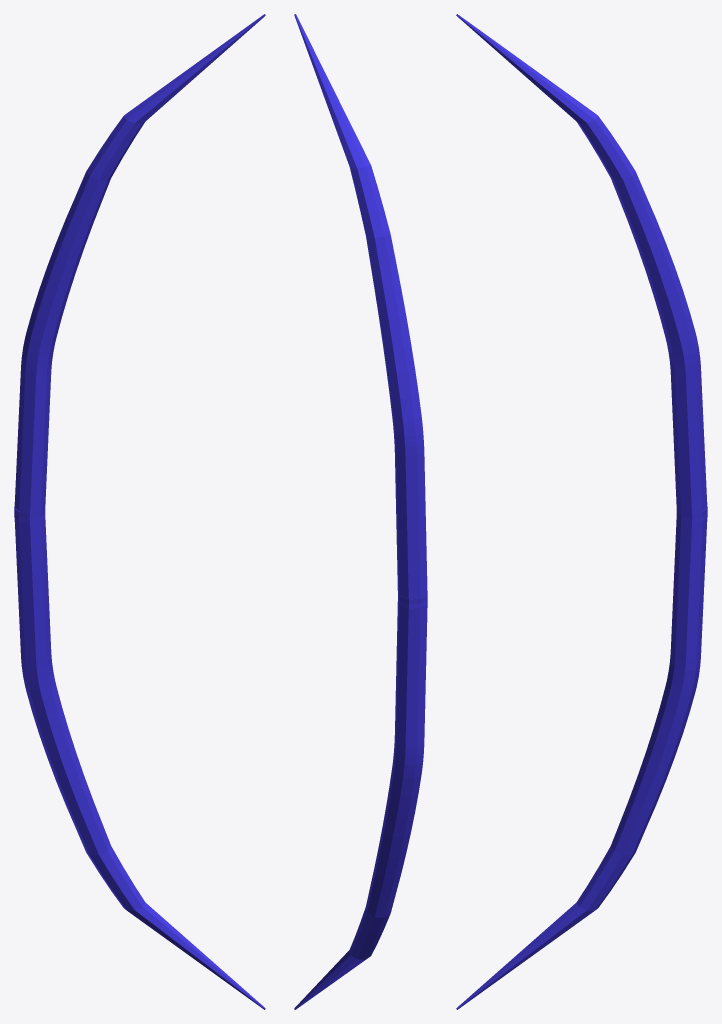
The model's file is Bow.fbx.
The picture shows the model from 3 angles, left to right: view 1: azimuth 90°, elevation 25°; view 2: azimuth 210°, elevation 25°; view 3: azimuth 270°, elevation 25°; orthographic projection.
Visible parts, largest first — view 1: Cylinder; view 2: Cylinder; view 3: Cylinder.
Part boxes in pixels (<box>): Cylinder: <box>14,14,265,1009</box>; Cylinder: <box>294,14,427,1009</box>; Cylinder: <box>456,14,707,1009</box>.
Size of the model in its own units: 9.65 by 344 by 78.91.
